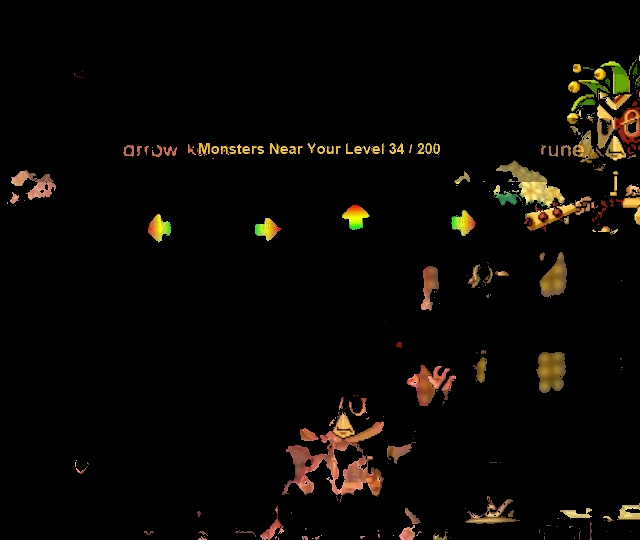left: (139, 209, 180, 247)
right: (444, 202, 484, 245), (248, 212, 288, 250)
up: (336, 195, 377, 236)
